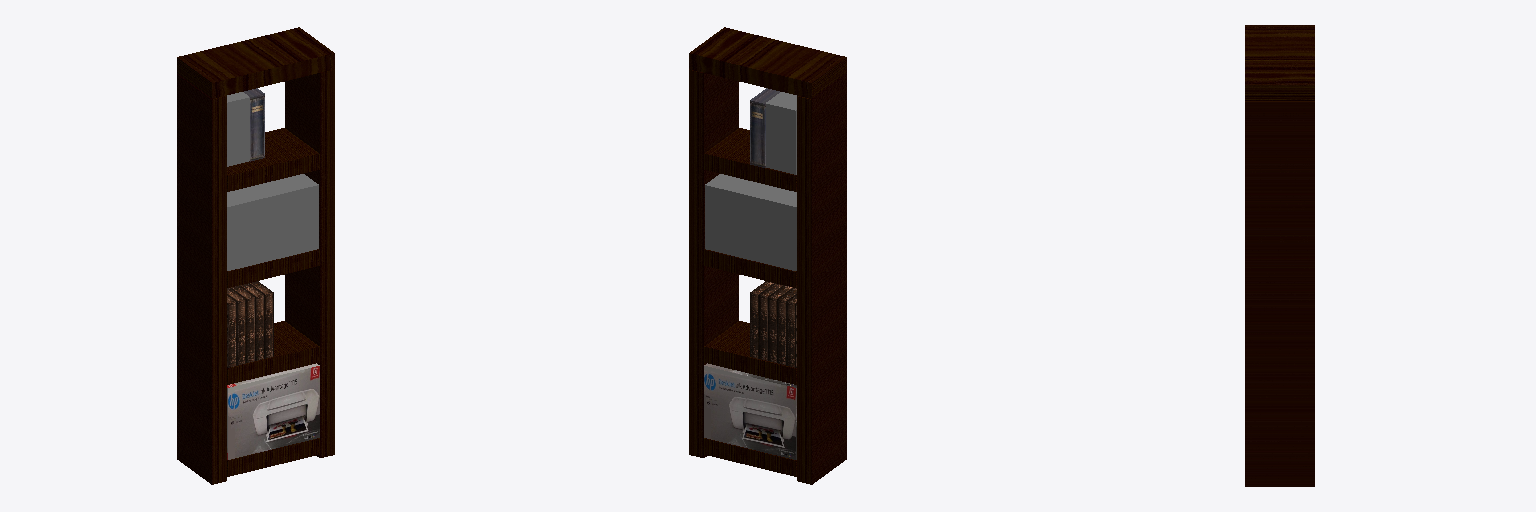
3 views of the same model, side by side, from view 1: azimuth 30°, elevation 25°; view 2: azimuth 150°, elevation 25°; view 3: azimuth 270°, elevation 25° (orthographic).
Visible parts, largest first — view 1: Box001, Box002, Box008, Box011, Box003, Box012, Box007, Box005, Box009, Box006, Box004, Box010; view 2: Box001, Box002, Box008, Box011, Box003, Box012, Box005, Box007, Box009, Box006, Box004, Box010; view 3: Box002, Box003.
Part boxes in pixels (x1,y1,x2,y2): Box001: (177,74,226,484); Box002: (285,69,334,457); Box008: (227,174,318,270); Box011: (227,363,319,459); Box003: (177,27,334,98); Box012: (227,281,273,367); Box007: (227,128,319,191); Box005: (227,321,319,384); Box009: (227,92,249,166); Box006: (227,249,319,287); Box004: (227,438,319,476); Box010: (244,88,264,161); Box001: (797,74,846,484); Box002: (689,69,738,457); Box008: (705,174,796,270); Box011: (704,363,796,459); Box003: (689,27,846,98); Box012: (750,281,796,367); Box005: (704,321,796,384); Box007: (704,128,796,191); Box009: (765,92,796,174); Box006: (704,249,796,287); Box004: (704,438,796,476); Box010: (750,88,779,167); Box002: (1245,101,1314,486); Box003: (1245,25,1314,100).
Bounding box in the file's own units: 40.28 × 125 × 20.03.
Materials: 6 (4 with a texture image).